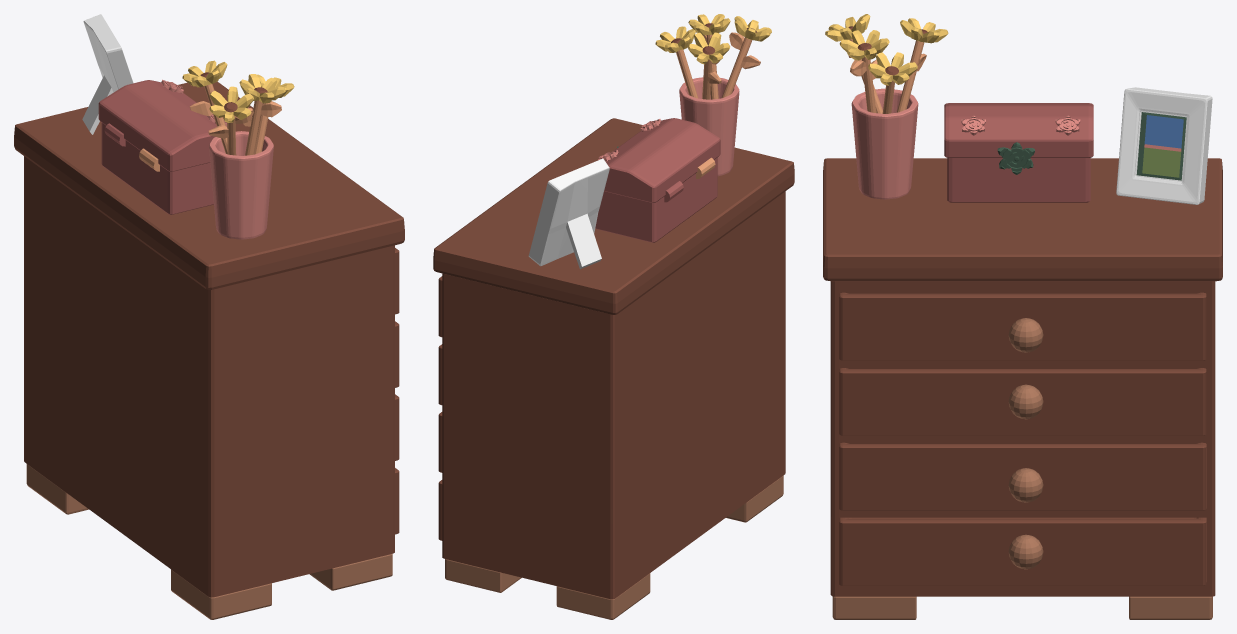
The model's file is Bedroom_Drawer.fbx.
3 views of the same model, side by side, from view 1: azimuth 30°, elevation 25°; view 2: azimuth 150°, elevation 25°; view 3: azimuth 270°, elevation 25° (orthographic). The views are drawn at different scales.
Parts seen in each view (by area): view 1: Bedroom_Drawer.003, Bedroom_Drawer.001, Bedroom_Drawer.007, Bedroom_Drawer.002, Bedroom_Drawer.011, Bedroom_Drawer.004, Bedroom_Drawer.010; view 2: Bedroom_Drawer.003, Bedroom_Drawer.001, Bedroom_Drawer.004, Bedroom_Drawer.002, Bedroom_Drawer.007, Bedroom_Drawer.011, Bedroom_Drawer.010; view 3: Bedroom_Drawer.003, Bedroom_Drawer.001, Bedroom_Drawer.002, Bedroom_Drawer.004, Bedroom_Drawer.007, Bedroom_Drawer.011, Bedroom_Drawer.010, Bedroom_Drawer.005, Bedroom_Drawer.008, Bedroom_Drawer.006, Bedroom_Drawer, Bedroom_Drawer.012.
Boxes of the visible parts, <box> form: Bedroom_Drawer.003: <box>14,72,404,597</box>; Bedroom_Drawer.001: <box>98,80,216,214</box>; Bedroom_Drawer.007: <box>209,131,273,239</box>; Bedroom_Drawer.002: <box>26,464,392,619</box>; Bedroom_Drawer.011: <box>182,60,294,122</box>; Bedroom_Drawer.004: <box>82,14,133,134</box>; Bedroom_Drawer.010: <box>189,84,281,155</box>; Bedroom_Drawer.003: <box>433,23,794,599</box>; Bedroom_Drawer.001: <box>595,118,720,242</box>; Bedroom_Drawer.004: <box>528,158,609,269</box>; Bedroom_Drawer.002: <box>445,475,783,619</box>; Bedroom_Drawer.007: <box>679,77,739,176</box>; Bedroom_Drawer.011: <box>655,14,771,64</box>; Bedroom_Drawer.010: <box>676,32,760,99</box>; Bedroom_Drawer.003: <box>823,26,1222,596</box>; Bedroom_Drawer.001: <box>944,103,1093,202</box>; Bedroom_Drawer.002: <box>832,318,1212,619</box>; Bedroom_Drawer.004: <box>1116,87,1212,204</box>; Bedroom_Drawer.007: <box>851,88,1181,199</box>; Bedroom_Drawer.011: <box>825,14,948,85</box>; Bedroom_Drawer.010: <box>848,39,926,113</box>; Bedroom_Drawer.005: <box>1144,115,1183,148</box>; Bedroom_Drawer.008: <box>1142,147,1181,177</box>; Bedroom_Drawer.006: <box>1136,112,1186,180</box>; Bedroom_Drawer: <box>997,142,1034,174</box>; Bedroom_Drawer.012: <box>961,115,1080,135</box>.
Bounding box in the file's own units: 94.47 × 138 × 63.35.
